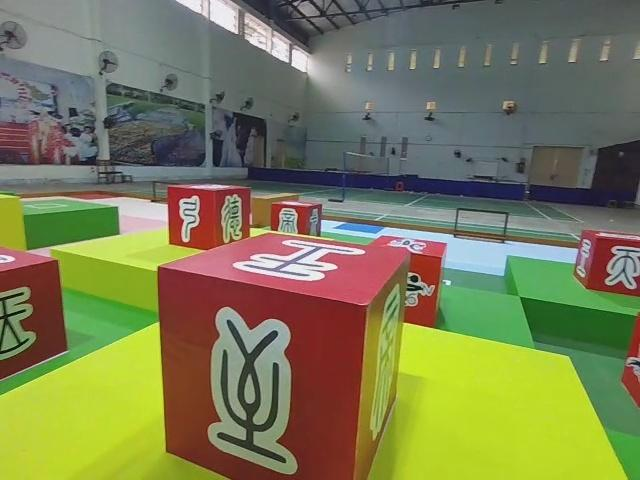R1: (359, 233, 450, 328)
R2 Fake: (155, 230, 414, 480), (165, 182, 253, 250), (573, 227, 640, 299), (268, 198, 324, 243)
R2 Real: (0, 242, 69, 384)
